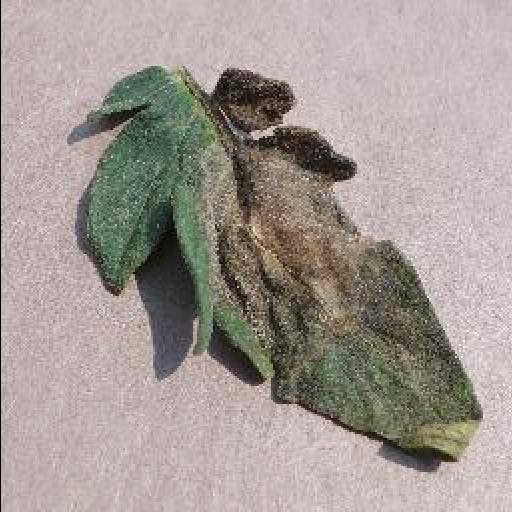disease_tomato: (83, 65, 481, 463)
